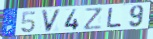4: (63, 8, 80, 31)
5: (20, 10, 37, 34)
9: (127, 5, 146, 29)
L: (106, 7, 123, 29)
V: (41, 8, 63, 33)
Z: (84, 6, 104, 31)
